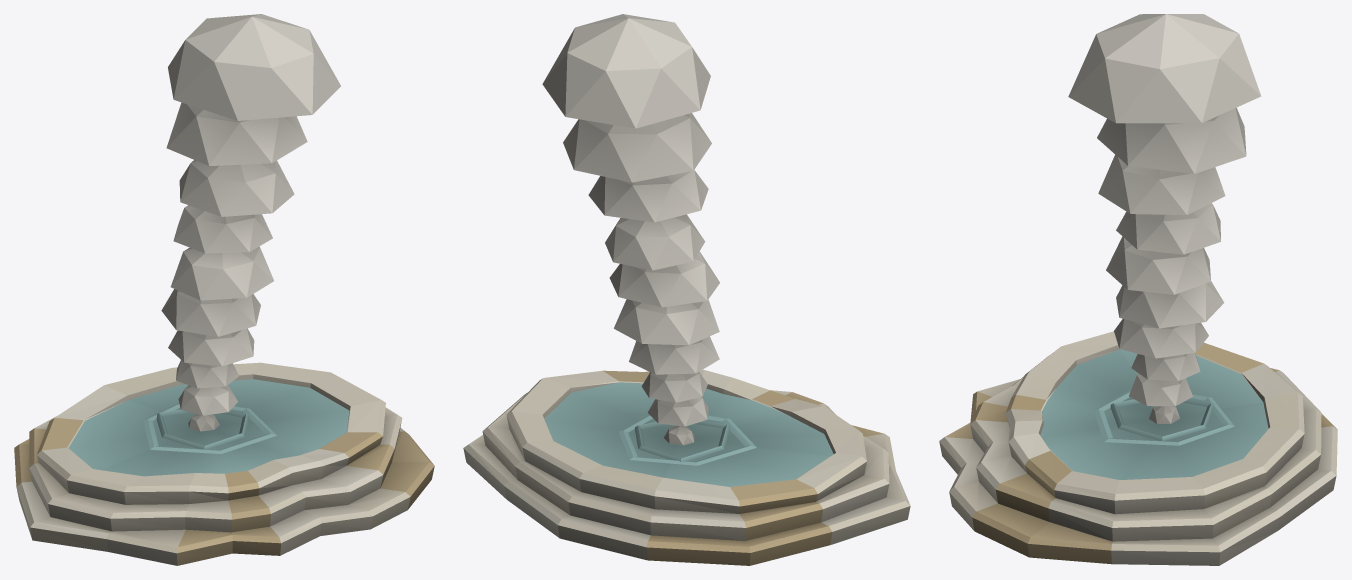
Rendered from steamspring.glb.
3 renders of one model, left to right at view 1: azimuth 30°, elevation 25°; view 2: azimuth 150°, elevation 25°; view 3: azimuth 270°, elevation 25°, orthographic. The views are drawn at different scales.
Parts seen in each view (by area): view 1: steamspring; view 2: steamspring; view 3: steamspring.
Part boxes in pixels (<box>): steamspring: <box>14,14,434,565</box>; steamspring: <box>463,14,910,565</box>; steamspring: <box>939,14,1337,565</box>.
Size of the model in its own units: 7.8 by 8.67 by 6.5.
